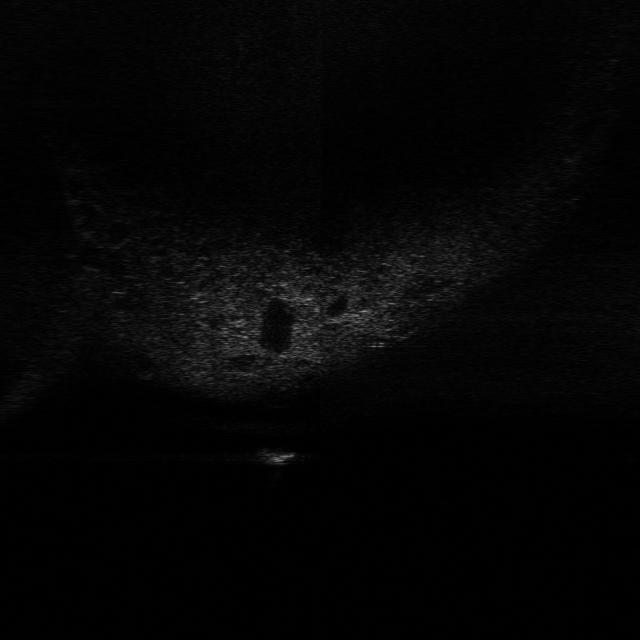cube: (250, 444, 304, 469)
